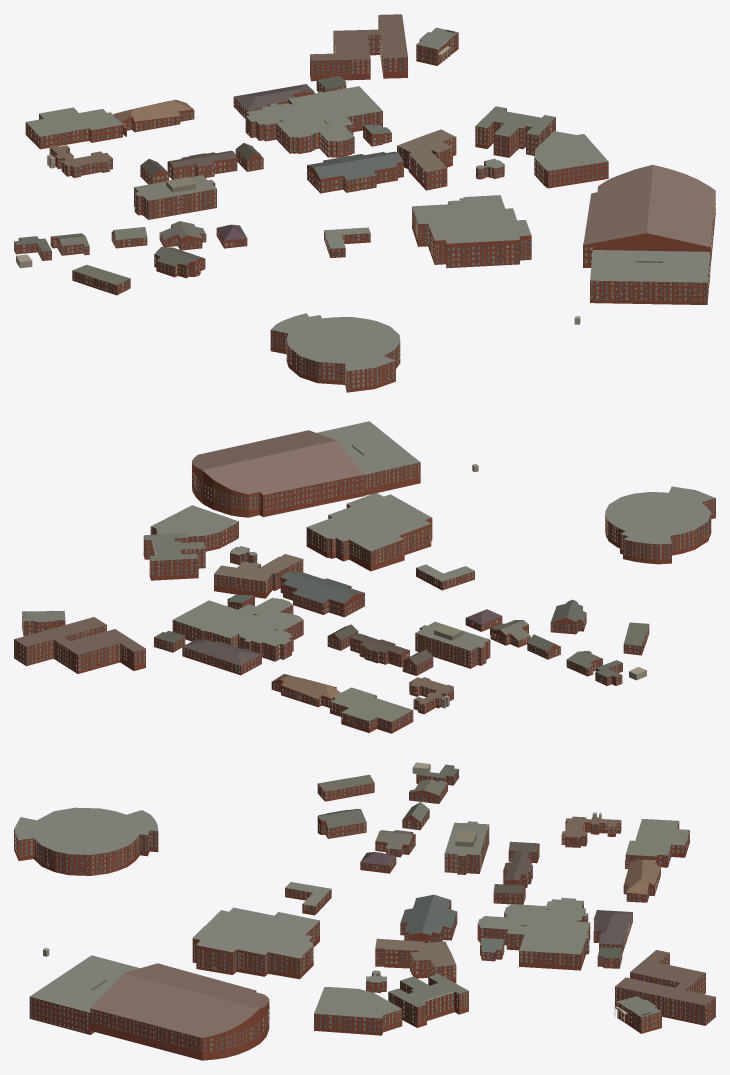
3 views of the same model, one above another, from view 1: azimuth 30°, elevation 25°; view 2: azimuth 150°, elevation 25°; view 3: azimuth 270°, elevation 25° (orthographic). The views are drawn at different scales.
Parts seen in each view (by area): view 1: -4_0_135662222_0; view 2: -4_0_135662222_0; view 3: -4_0_135662222_0.
Boxes of the visible parts, x1,y1,x2,y2 form: -4_0_135662222_0: (14,14,715,392); -4_0_135662222_0: (14,421,715,733); -4_0_135662222_0: (14,762,715,1060).
Size of the model in its own units: 531 by 34.65 by 557.
